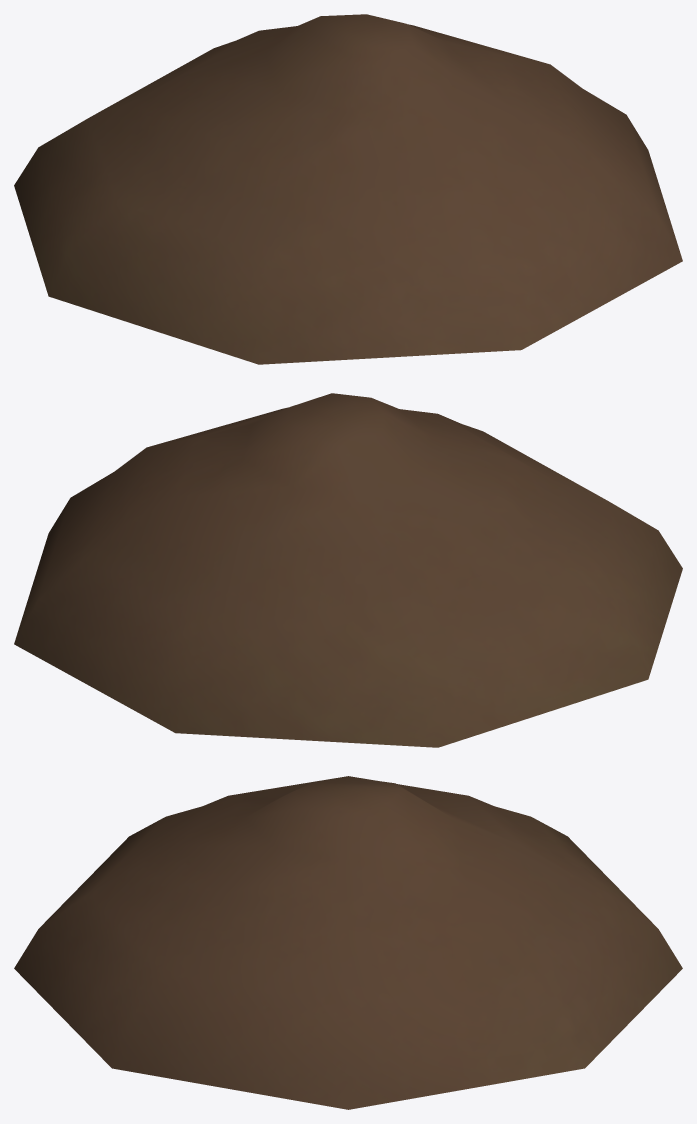
The model's file is Dirt.fbx.
The picture shows the model from 3 angles, top to bottom: view 1: azimuth 30°, elevation 25°; view 2: azimuth 150°, elevation 25°; view 3: azimuth 270°, elevation 25°; orthographic projection. The views are drawn at different scales.
Parts seen in each view (by area): view 1: Dirt; view 2: Dirt; view 3: Dirt.
Part boxes in pixels (box(x1,y1,x2,y2)): Dirt: box(14, 14, 682, 364); Dirt: box(14, 393, 682, 747); Dirt: box(14, 776, 682, 1109).
Bounding box in the file's own units: 58.07 × 17.25 × 58.07.
